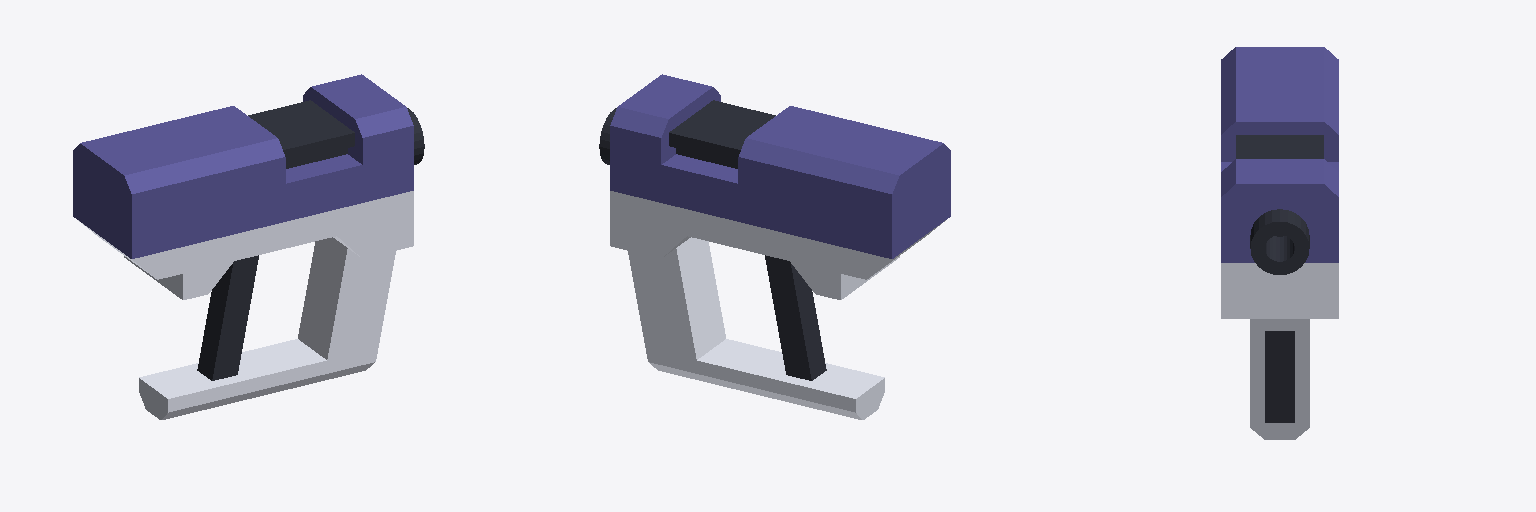
File: Pistol1.obj
The picture shows the model from 3 angles: view 1: azimuth 30°, elevation 25°; view 2: azimuth 150°, elevation 25°; view 3: azimuth 270°, elevation 25°; orthographic projection.
Visible parts, largest first — view 1: mergedBlocks; view 2: mergedBlocks; view 3: mergedBlocks.
Part boxes in pixels (x1,y1,x2,y2): mergedBlocks: (73,74,424,419); mergedBlocks: (599,74,950,419); mergedBlocks: (1221,47,1338,439).
Bounding box in the file's own units: 1.2 × 1 × 0.4.